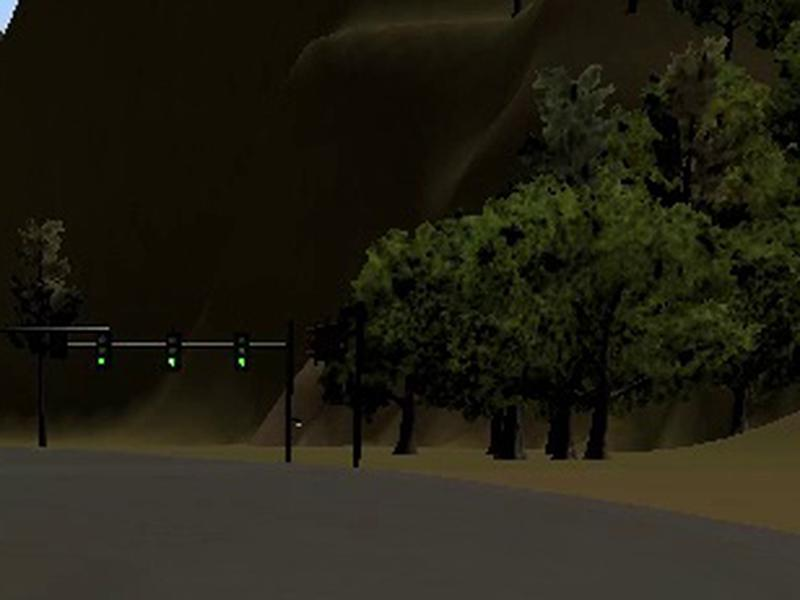Green: (233, 334, 250, 371), (164, 333, 181, 370), (94, 331, 110, 368)
